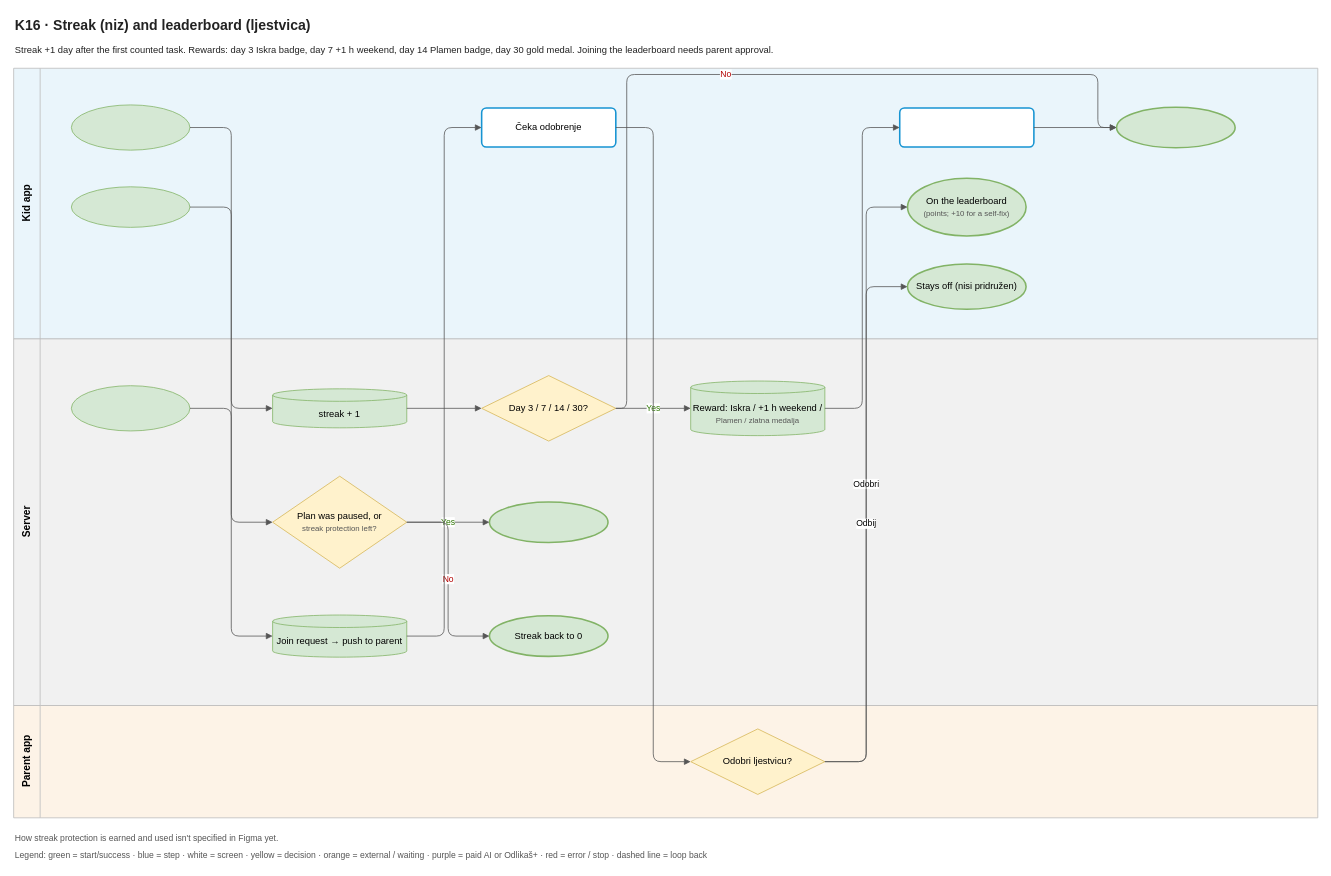
The diagram is 1331 pixels wide and 876 high, and some of its shapes have lost their labels. Each missing label, with the box of its shape:
First counted task of the day: (71, 104, 190, 150)
Ljestvica → PRIDRUŽI SE: (71, 186, 190, 227)
Midnight: no counted task yesterday: (71, 385, 190, 431)
Niz +1 dan: (1115, 106, 1236, 148)
Niz nagrada: (899, 107, 1034, 147)
Streak kept: (488, 501, 608, 543)
